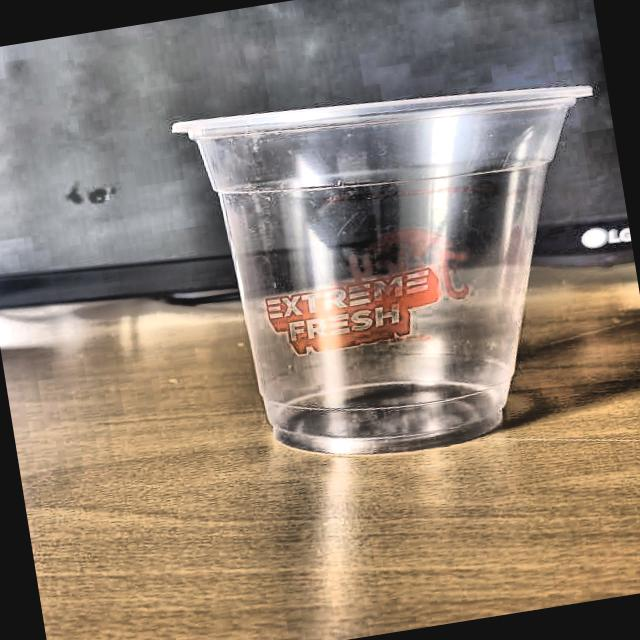plastic cup: (167, 49, 640, 484)
